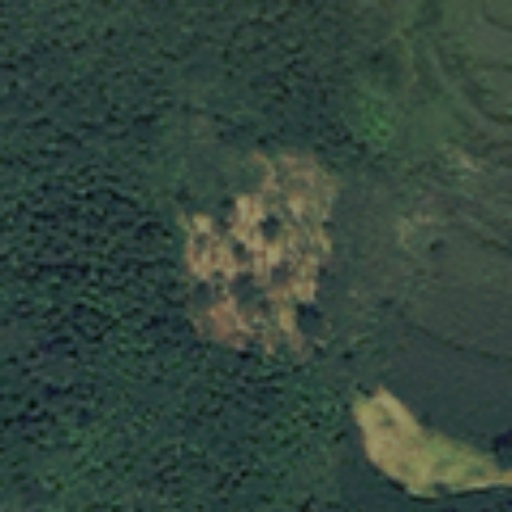landslide: (185, 153, 334, 355), (355, 387, 510, 496)
